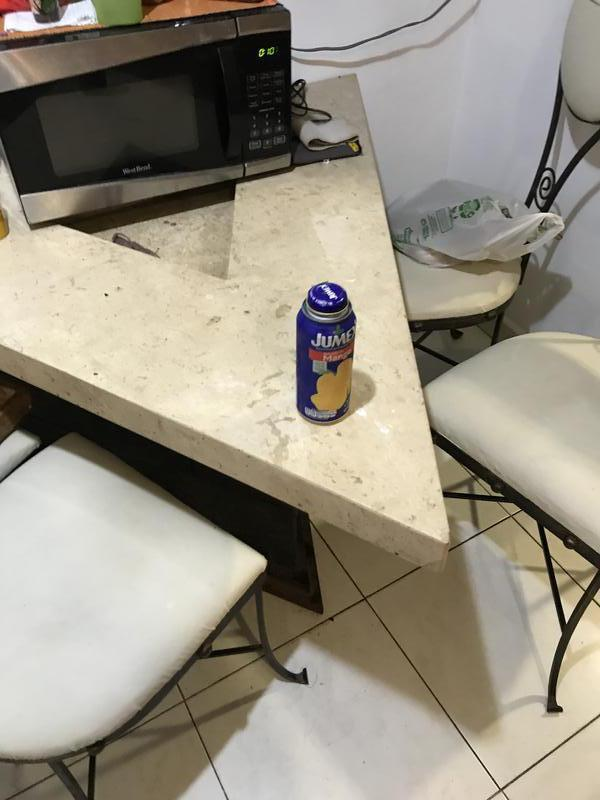jugo_jumex: (295, 282, 355, 425)
